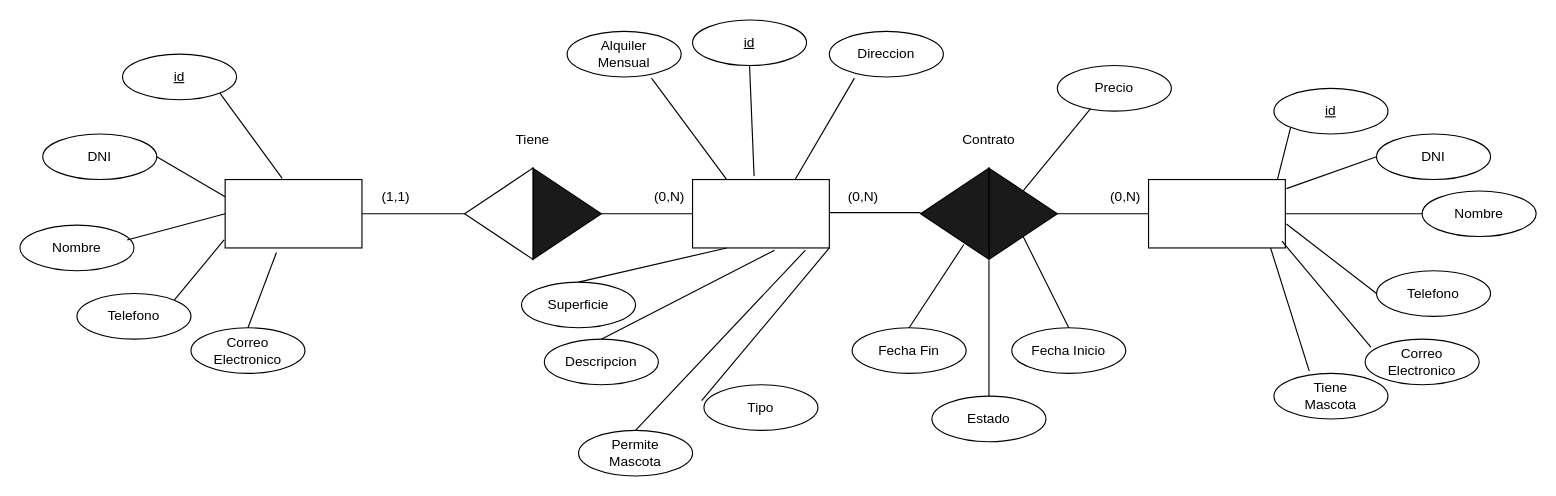
The diagram is 1556 pixels wide and 496 high, and some of its shapes have lost their labels. Here are the shapes that lost their labels. From the top down, the centre of each, then its label:
point (293, 213): Propietario
point (760, 213): Vivienda
point (1216, 213): Inquilino
